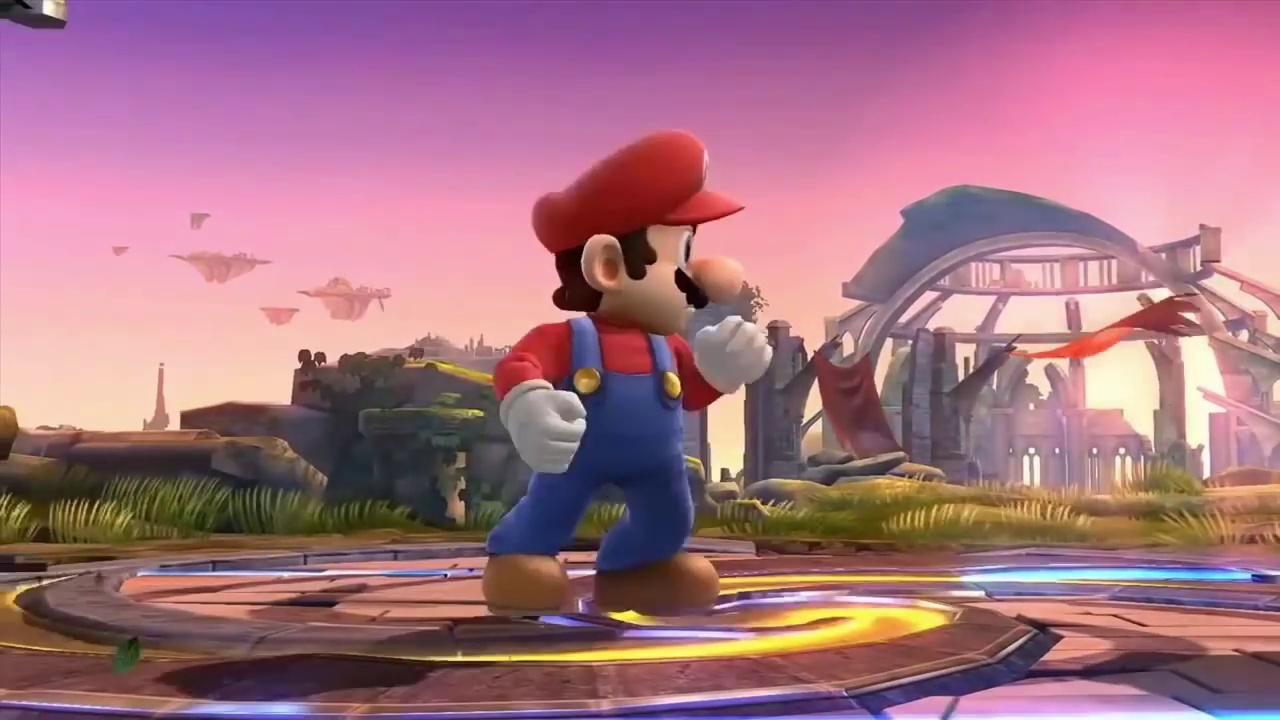Mario: (475, 127, 773, 616)
